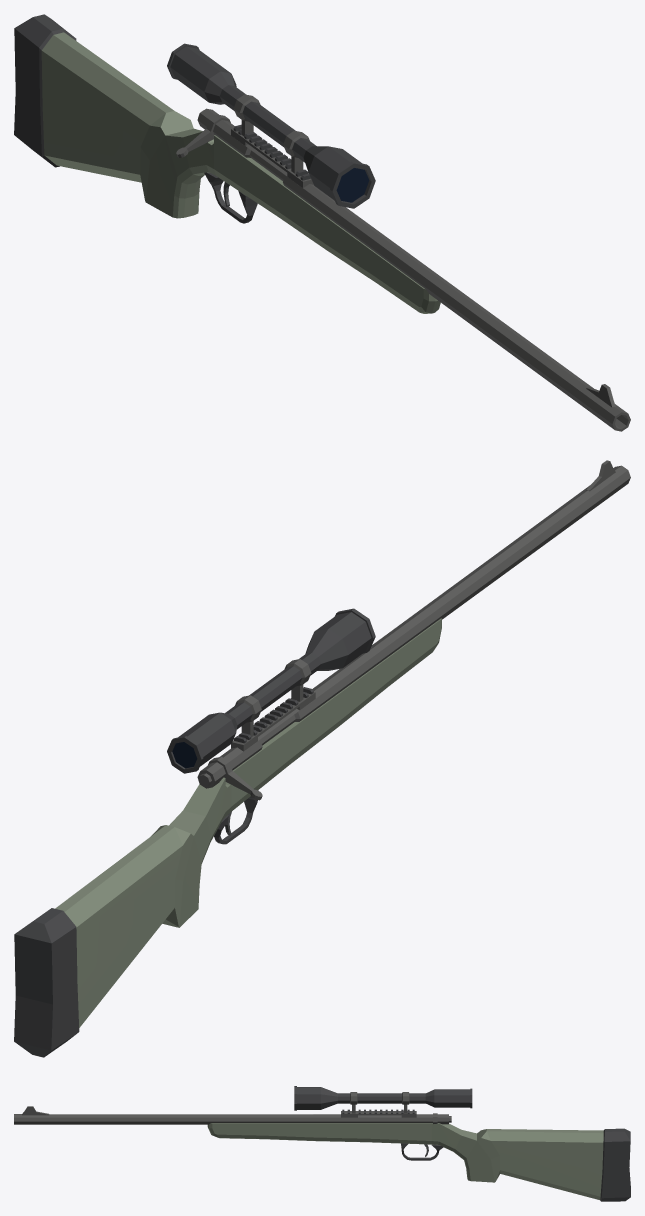
File: sniper_1.glb
3 renders of one model, top to bottom at view 1: azimuth 30°, elevation 25°; view 2: azimuth 150°, elevation 25°; view 3: azimuth 270°, elevation 25°, orthographic. The views are drawn at different scales.
Parts seen in each view (by area): view 1: sniper_1; view 2: sniper_1; view 3: sniper_1.
Boxes of the visible parts, x1,y1,x2,y2 form: sniper_1: (14, 14, 630, 431); sniper_1: (14, 460, 630, 1057); sniper_1: (14, 1086, 630, 1201).
Size of the model in its own units: 0.0743 by 0.2402 by 1.18.
